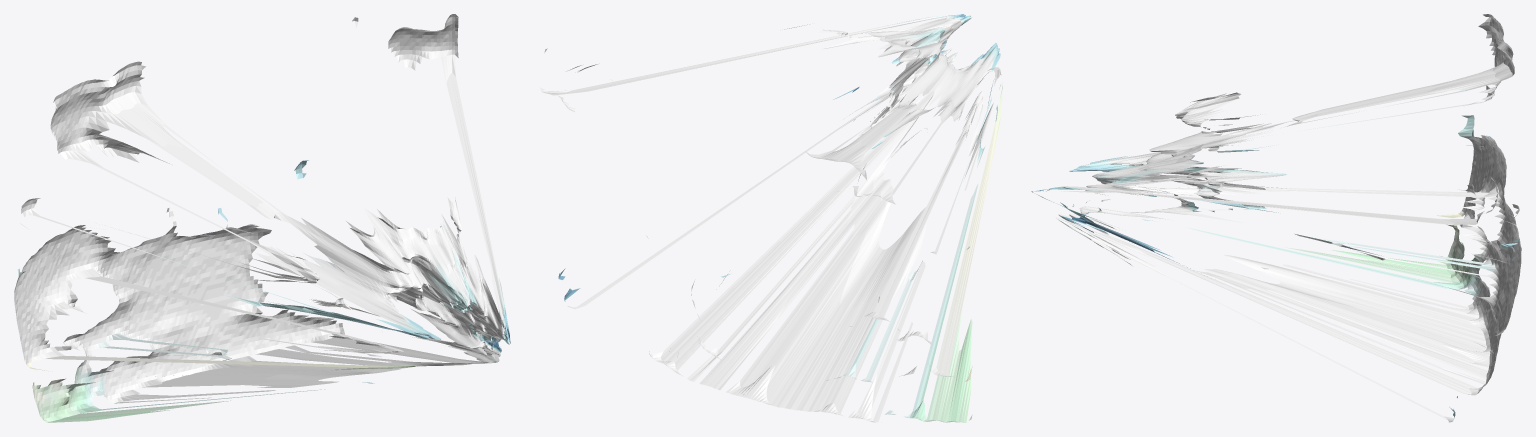
3 views of the same model, side by side, from view 1: azimuth 30°, elevation 25°; view 2: azimuth 150°, elevation 25°; view 3: azimuth 270°, elevation 25° (orthographic). The views are drawn at different scales.
Visible parts, largest first — view 1: defaultobject; view 2: defaultobject; view 3: defaultobject.
Part boxes in pixels (box(x1,y1,x2,y2)): defaultobject: box(14, 14, 510, 422); defaultobject: box(540, 14, 1002, 422); defaultobject: box(1031, 14, 1521, 422).
Size of the model in its own units: 40.64 by 27.29 by 43.83.
Materials: 1 (1 with a texture image).
